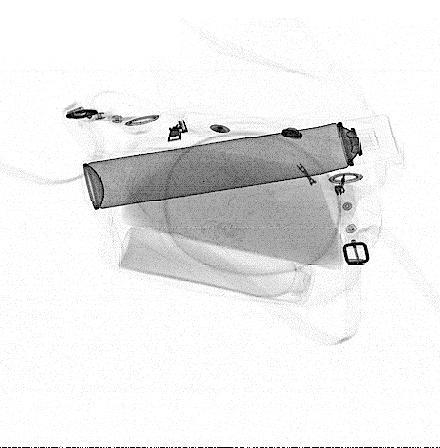Sprayer: (82, 115, 400, 210)
